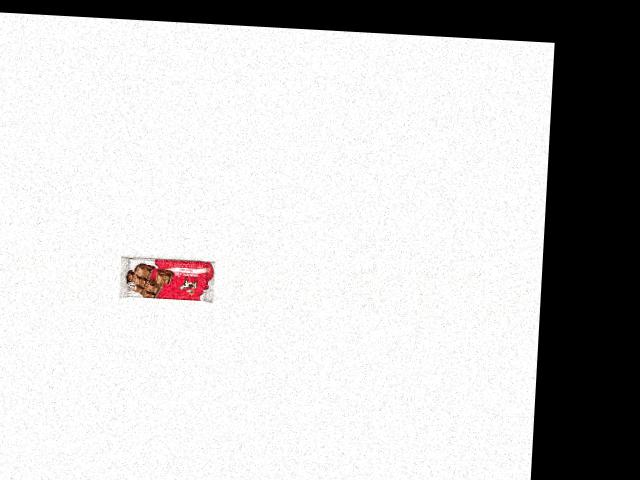chocolate: (116, 248, 218, 305)
